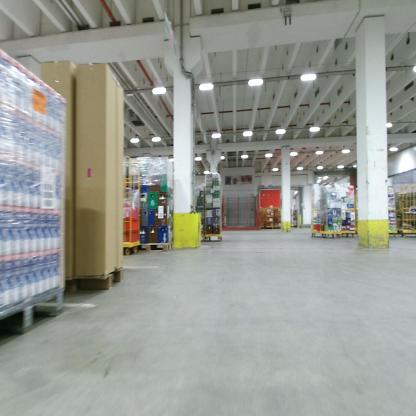pallet: (1, 282, 63, 341), (62, 265, 129, 296)
small_load_carrier: (118, 229, 140, 246), (122, 205, 140, 223), (122, 217, 139, 230)
